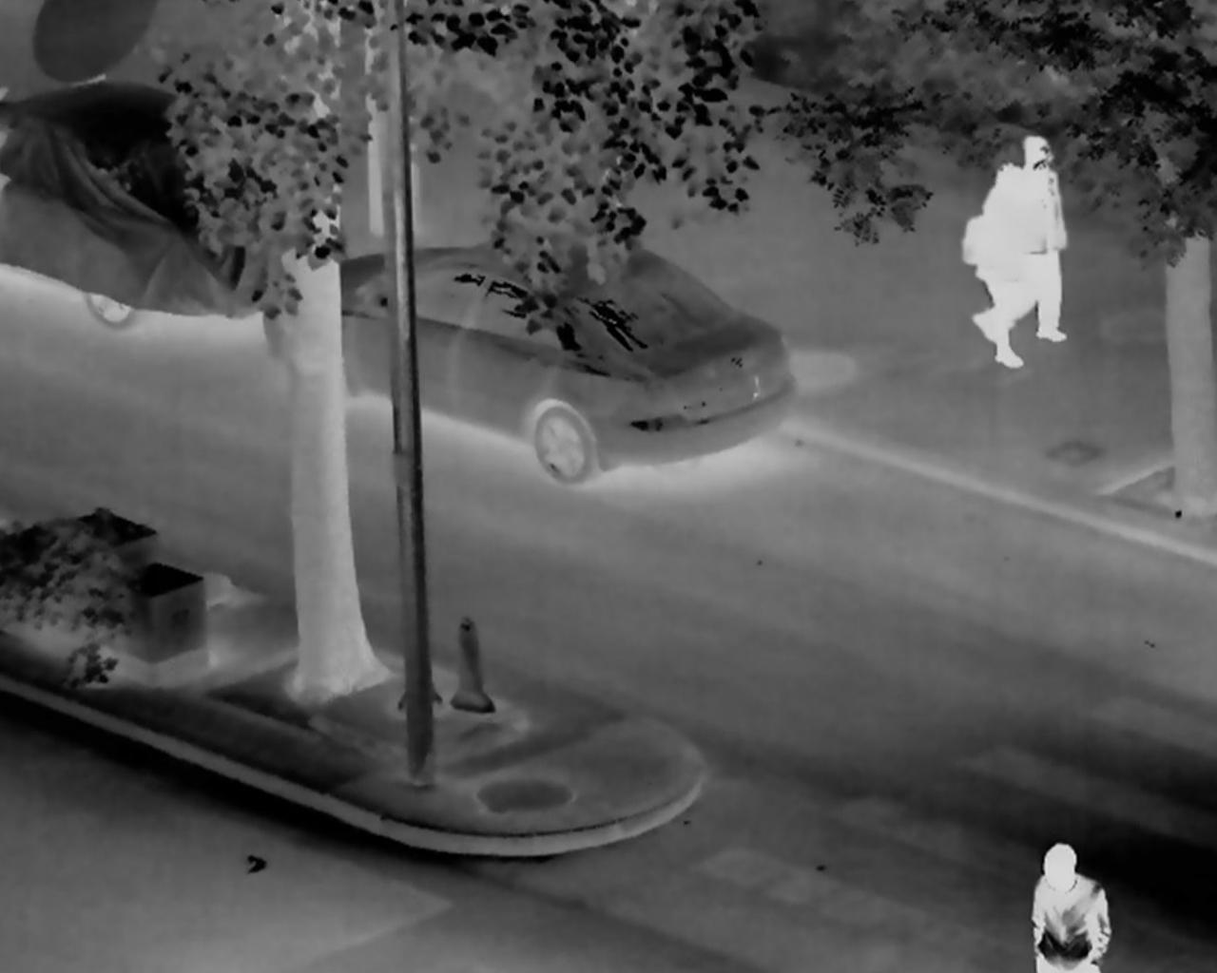person: (954, 163, 1040, 370), (1027, 841, 1115, 973), (1013, 132, 1066, 344)
